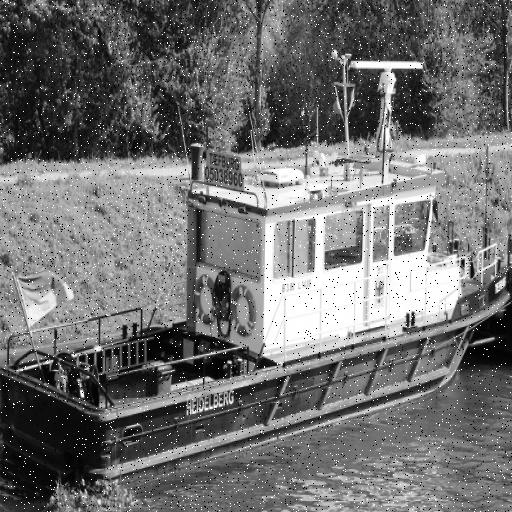tugboat: (1, 56, 512, 508)
